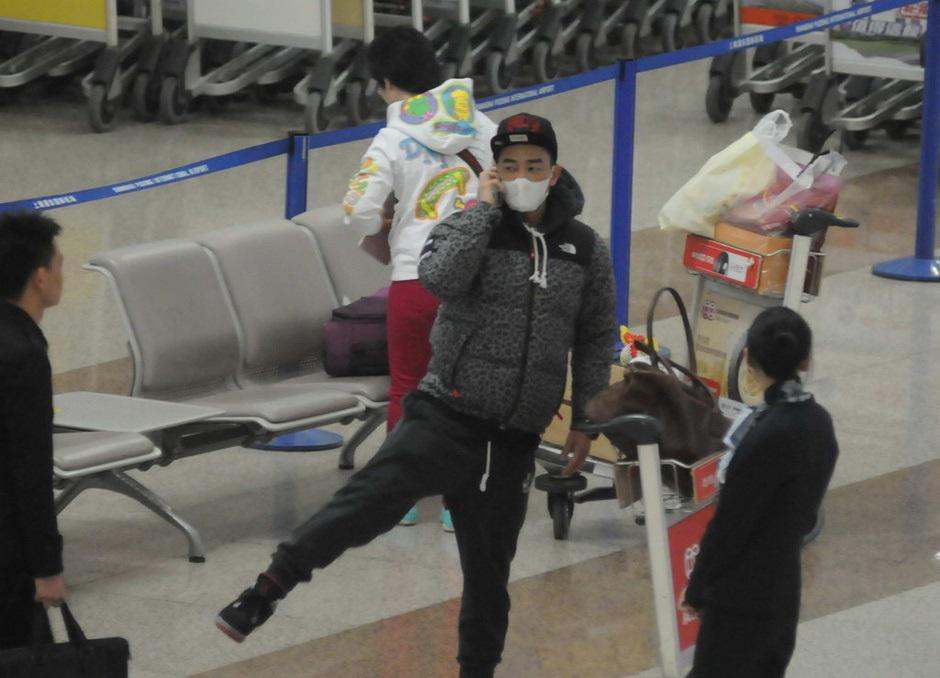OK: (492, 152, 549, 209)
